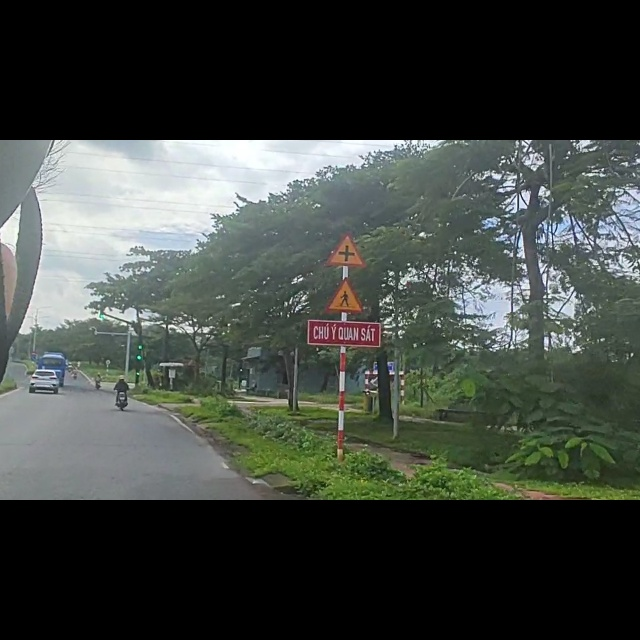bien_nguy_hiem: (324, 242, 373, 305), (326, 162, 371, 223)
